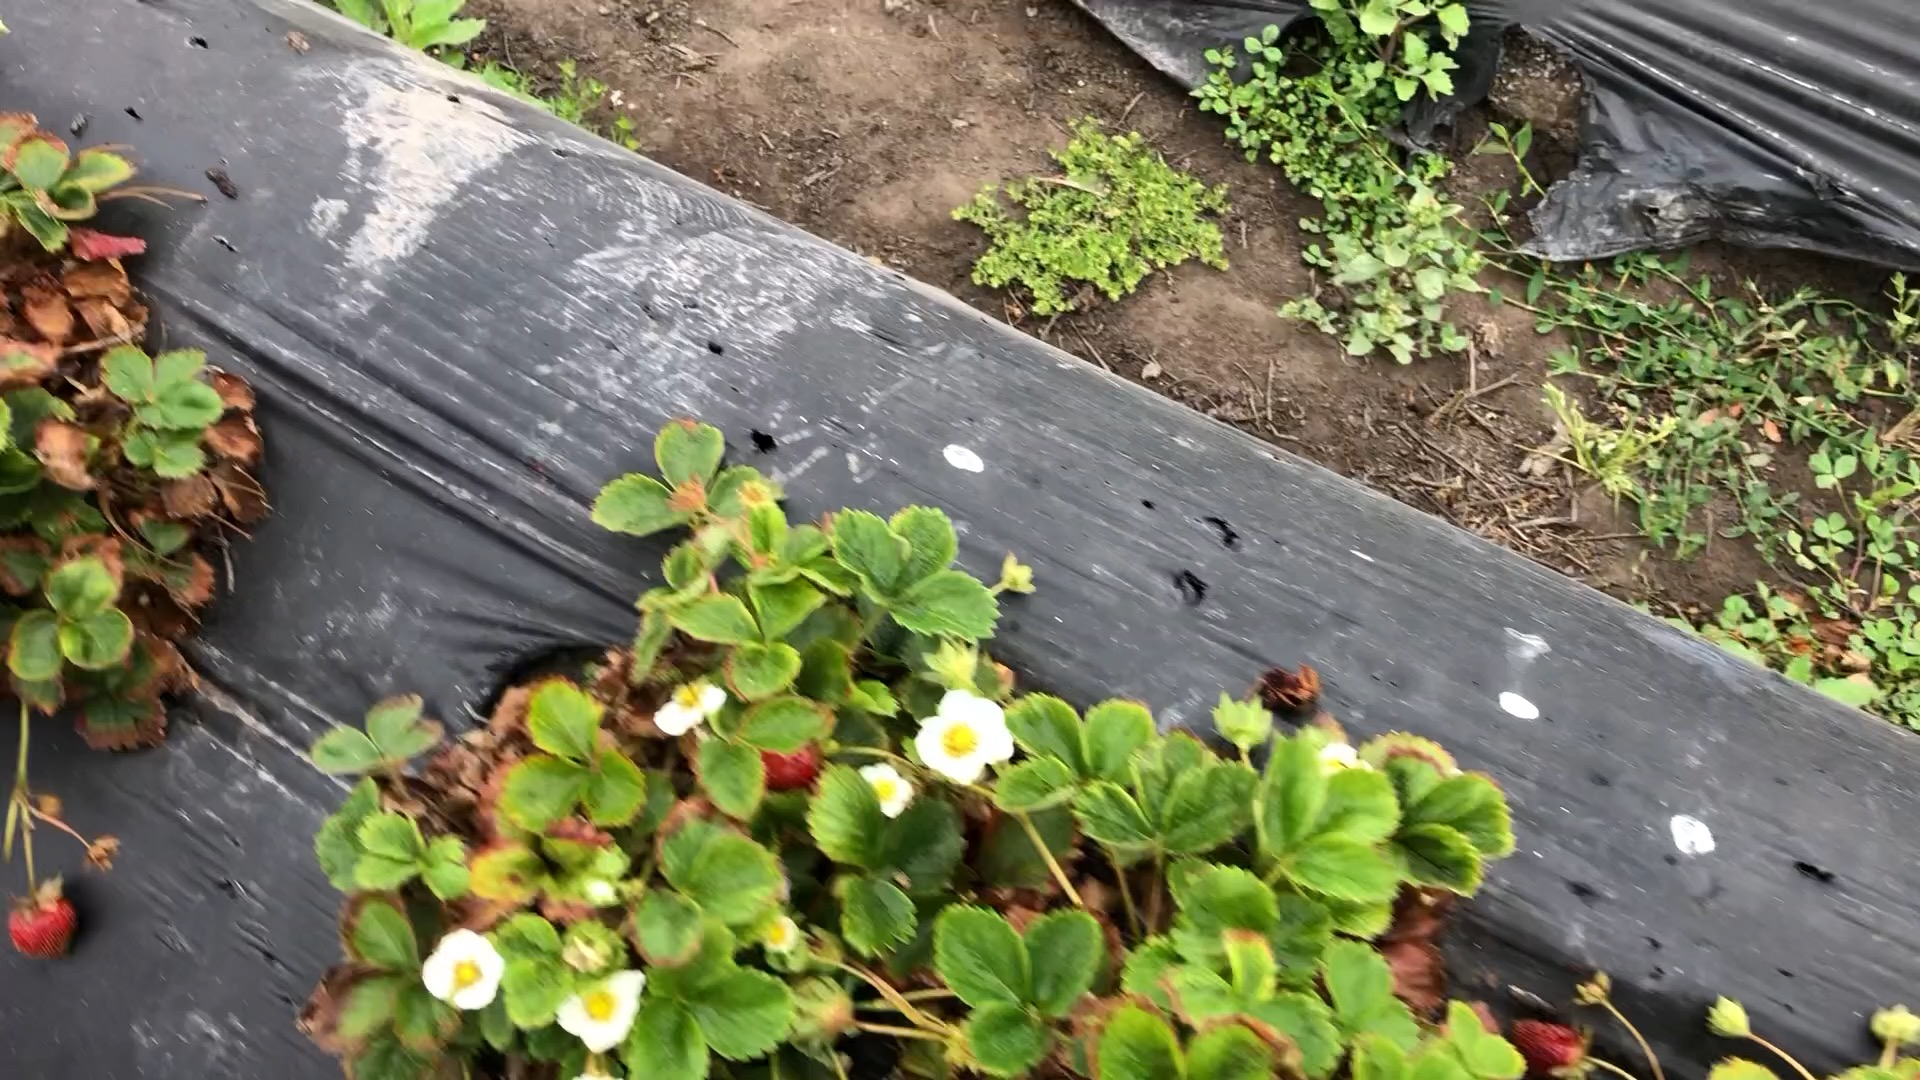ripe_strawberry: (1506, 1014, 1592, 1080), (8, 891, 82, 963), (760, 742, 828, 795)
